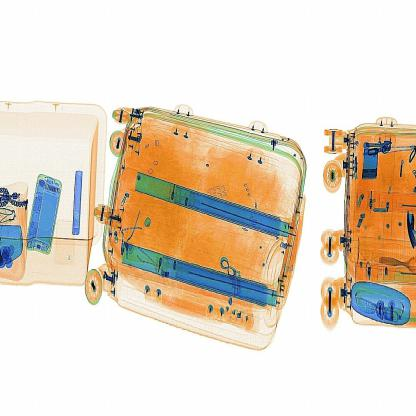pliers: (71, 169, 86, 241)
